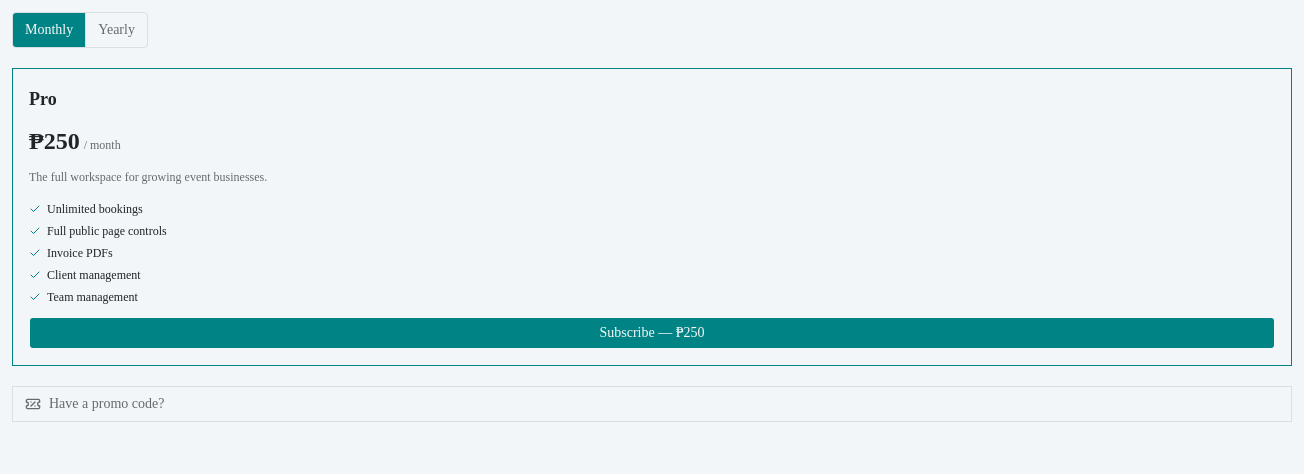
Scenario: SubscribePanel — checkout › shows an error and does not crash when the overlay isn't ready
Click the button "Subscribe — ₱250". click: (652, 333)
box: 29,317 -> 1275,349
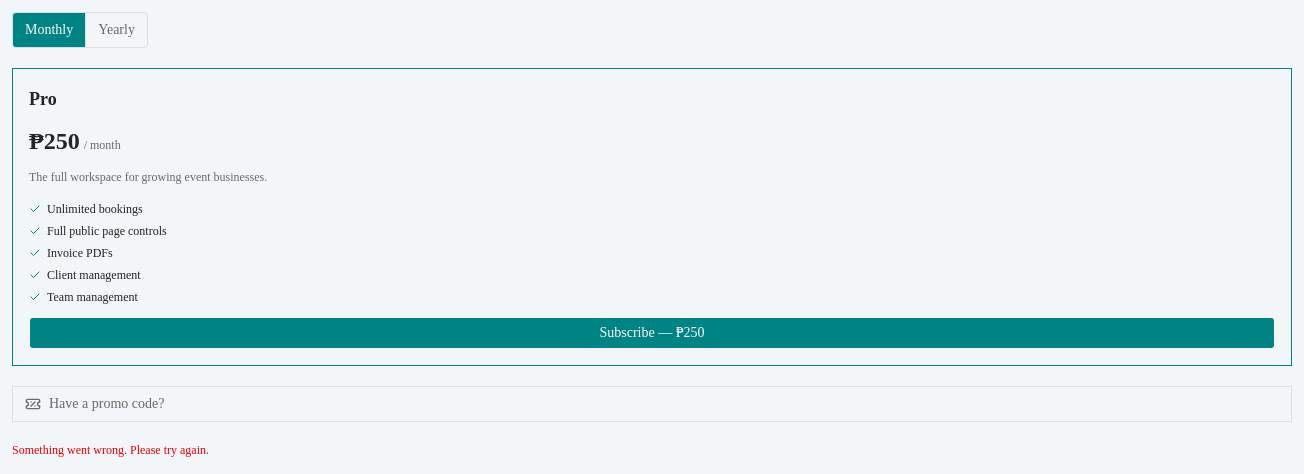
expect the message "Something went wrong. Please try again." is shown: met, box 12,443 -> 209,457
